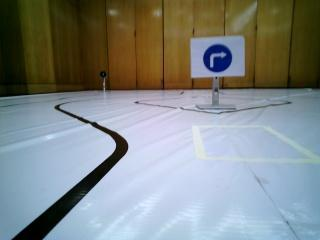right: (186, 37, 243, 78)
